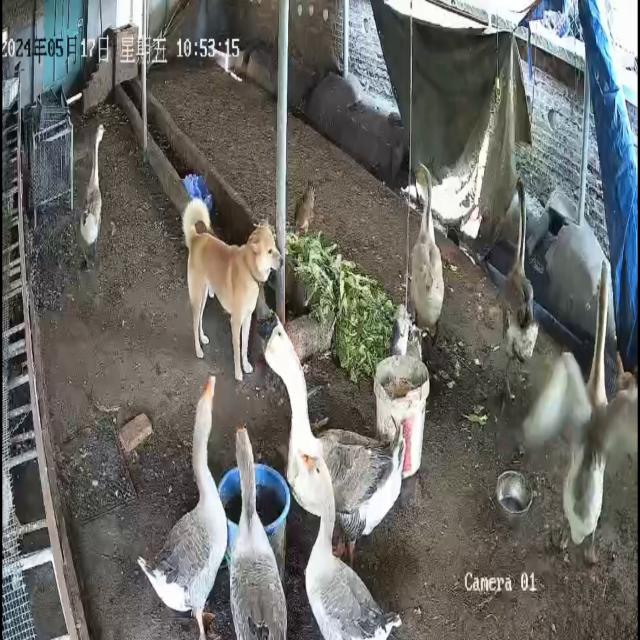dog: (182, 197, 283, 383)
